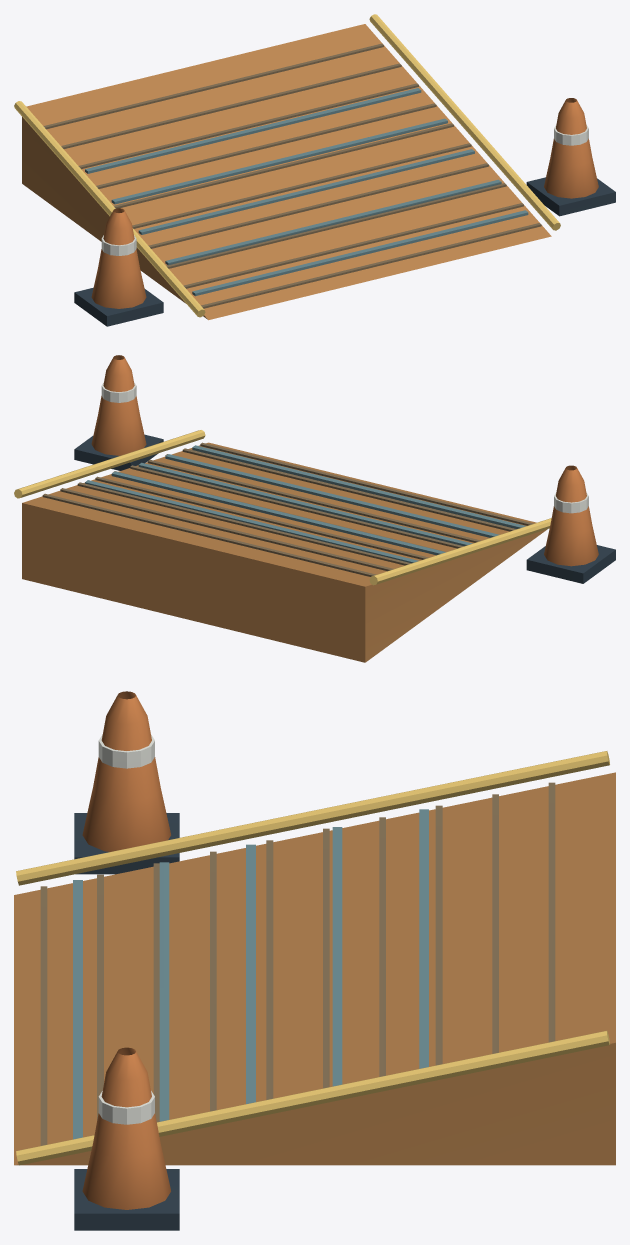
File: access-temporary.glb
The picture shows the model from 3 angles, top to bottom: view 1: azimuth 30°, elevation 25°; view 2: azimuth 150°, elevation 25°; view 3: azimuth 270°, elevation 25°; orthographic projection. The views are drawn at different scales.
Visible parts, largest first — view 1: ramp, wood board seam, non slip tread, safety cone, wheel edge guard, cone base, cone band; view 2: ramp, wood board seam, non slip tread, safety cone, wheel edge guard, cone base, cone band; view 3: ramp, wood board seam, wheel edge guard, safety cone, non slip tread, cone base, cone band.
Part boxes in pixels (x1,y1,x2,y2): ramp: [22, 24, 551, 320]; wood board seam: [43, 43, 541, 308]; non slip tread: [85, 88, 528, 296]; safety cone: [91, 98, 598, 308]; wheel edge guard: [14, 14, 560, 317]; cone base: [74, 177, 615, 326]; cone band: [101, 125, 588, 255]; ramp: [22, 442, 547, 662]; wood board seam: [42, 442, 533, 576]; non slip tread: [85, 445, 525, 563]; safety cone: [91, 355, 598, 566]; wheel edge guard: [14, 430, 551, 585]; cone base: [74, 434, 615, 583]; cone band: [101, 382, 588, 513]; ramp: [14, 772, 615, 1165]; wood board seam: [40, 782, 555, 1145]; wheel edge guard: [16, 751, 609, 1165]; safety cone: [82, 691, 170, 1209]; non slip tread: [73, 809, 428, 1139]; cone base: [74, 813, 179, 1230]; cone band: [98, 734, 154, 1124].
Size of the model in its own units: 2.52 by 0.46 by 1.6.
